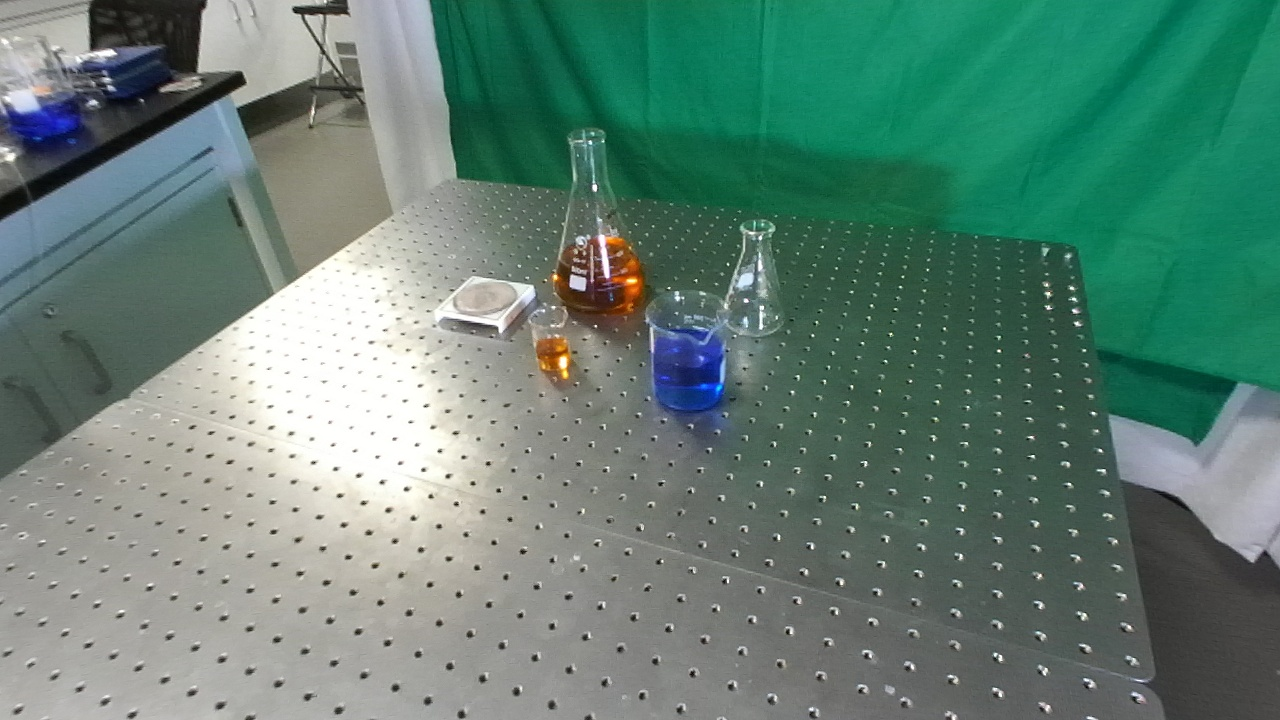glass: (547, 123, 649, 317), (647, 288, 731, 417), (718, 216, 790, 340), (529, 304, 573, 378)
plate: (429, 271, 538, 339)
